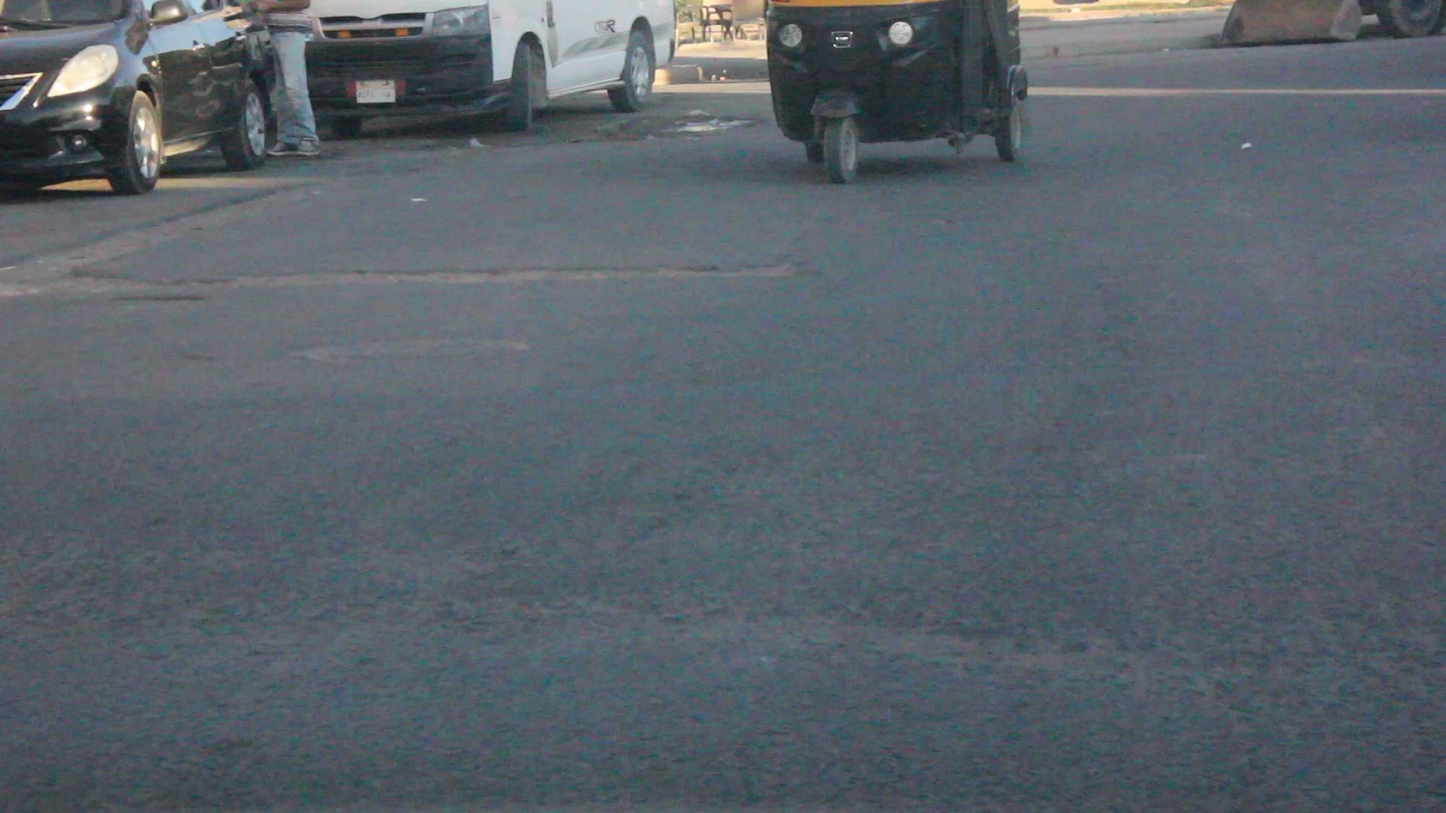Bump: (4, 361, 1444, 654)
